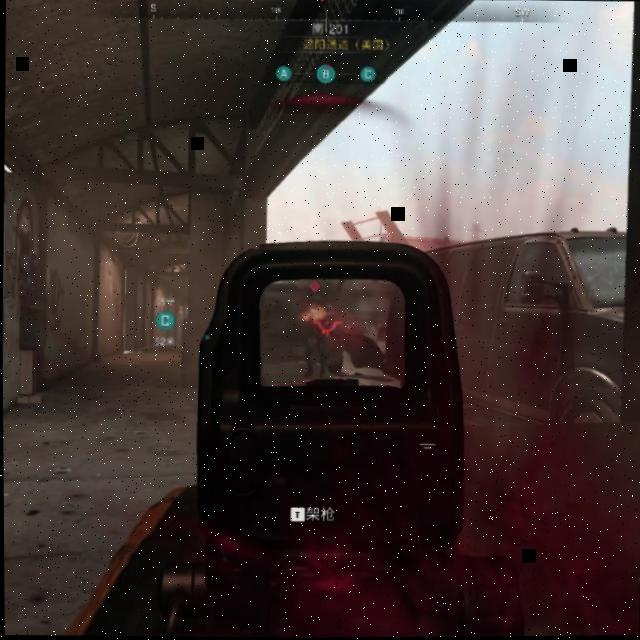MW2_body: (302, 281, 344, 374)
